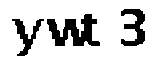3: (115, 6, 149, 51)
t: (81, 9, 105, 50)
w: (45, 16, 85, 48)
y: (9, 16, 45, 60)
